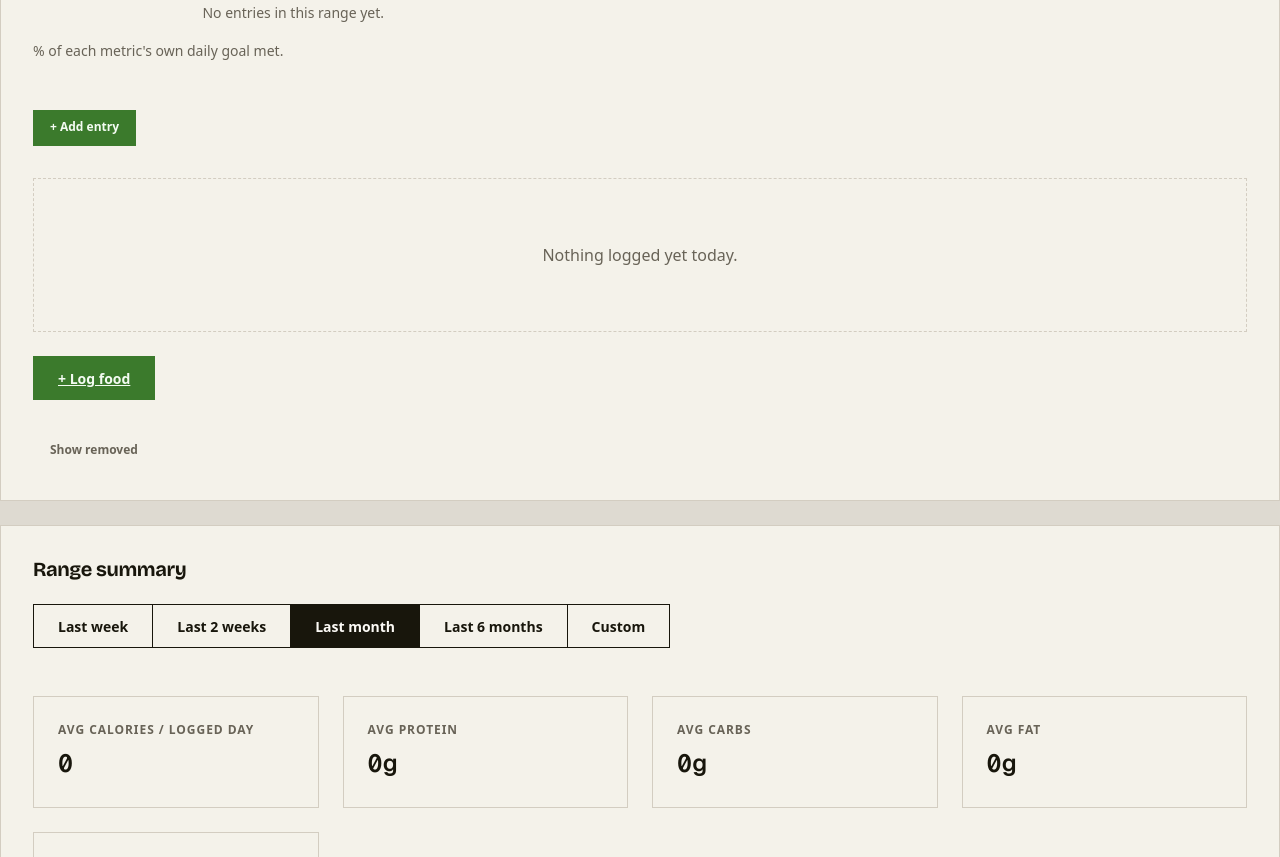
Test: History › cancels the permanent-delete confirmation without deleting
The width and height of the screenshot is (1280, 857).
(page scrolled)
Expected: the text "Nothing logged yet today." is shown, 33,178 -> 1247,332
Click the button "Show removed": [94, 450] box 33,432 -> 155,468
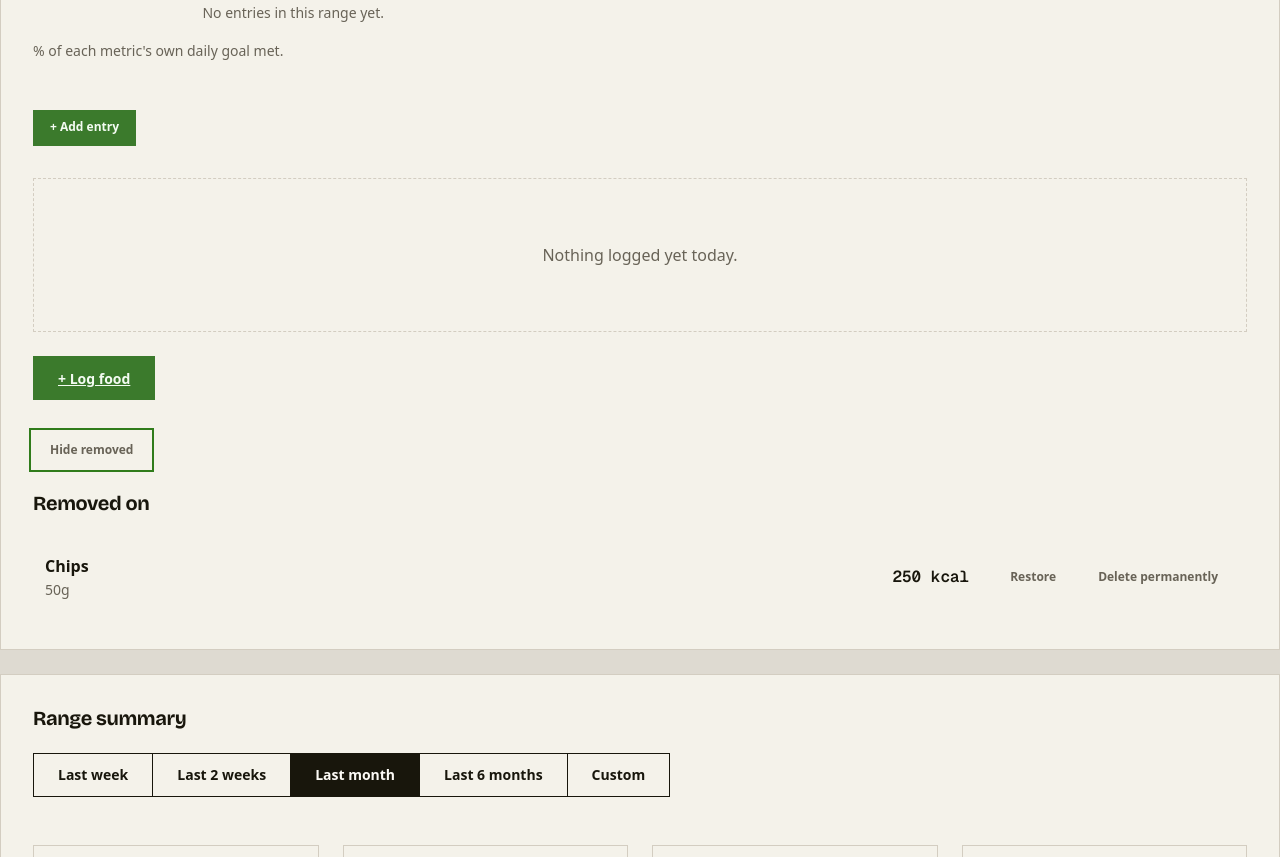
Now the text "Chips" is shown, box 45,555 -> 89,577
Click the button "Delete permanently": [1158, 578] box 1081,560 -> 1235,596
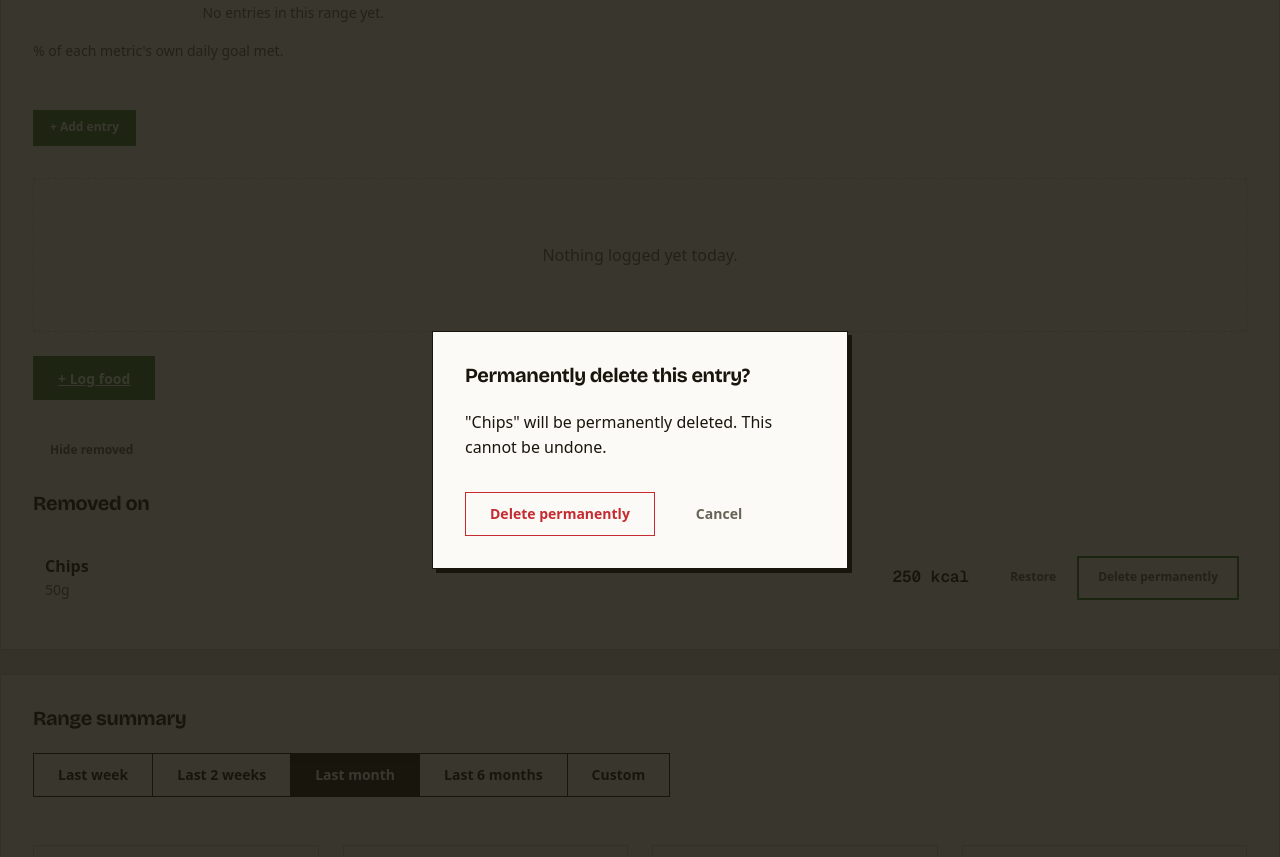
Click the button "Cancel": [719, 514] box 671,492 -> 767,536
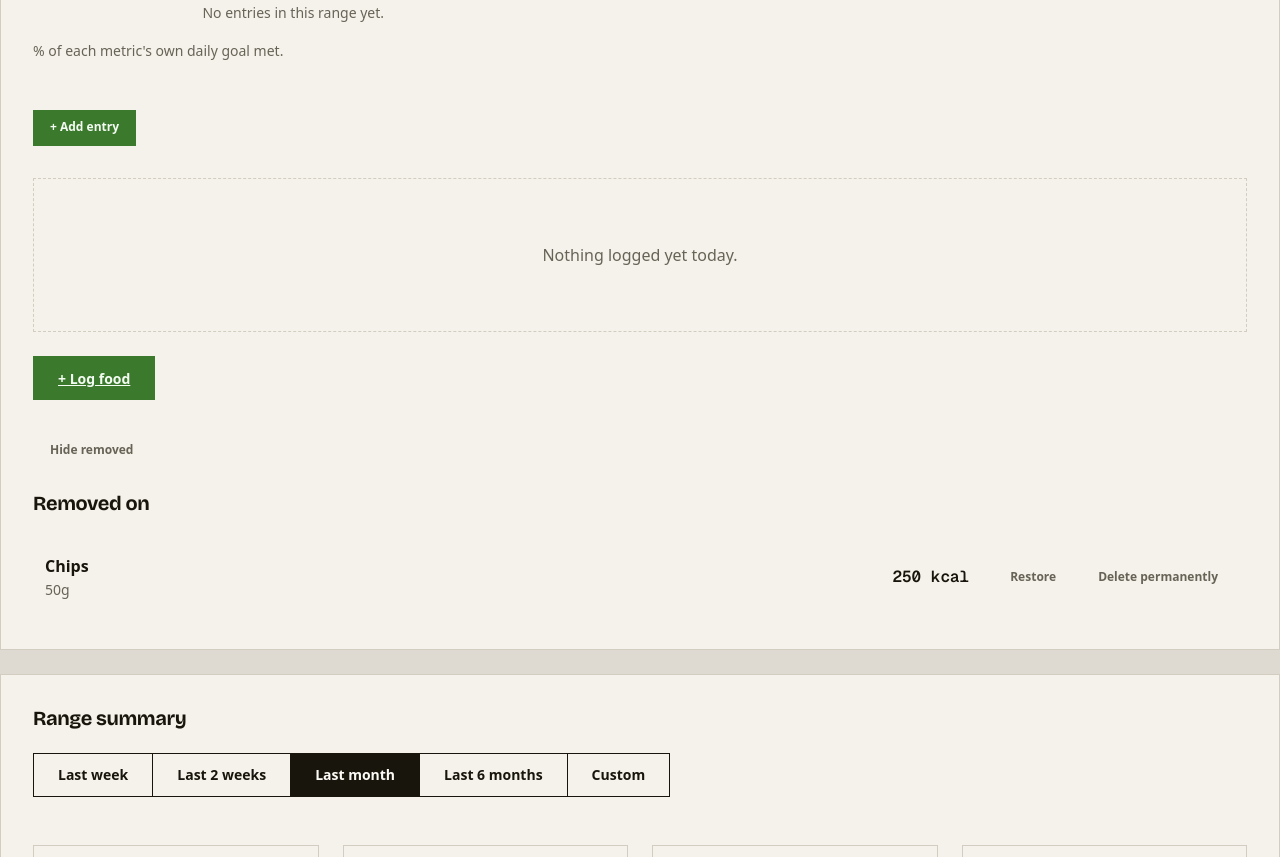
Now the heading "Permanently delete this entry?" is gone
